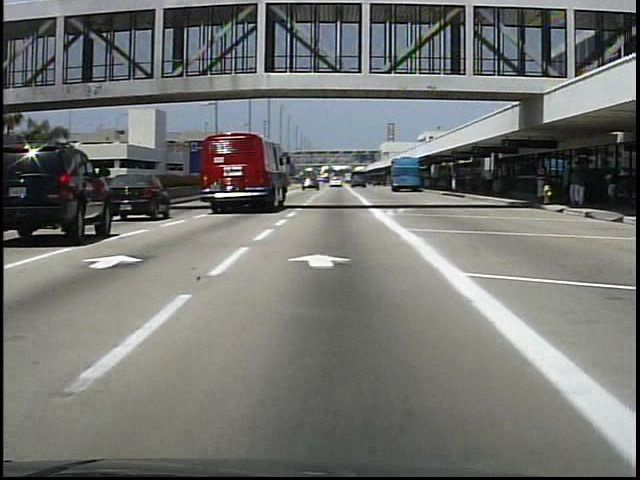person: (600, 168, 618, 212), (482, 166, 494, 193)
